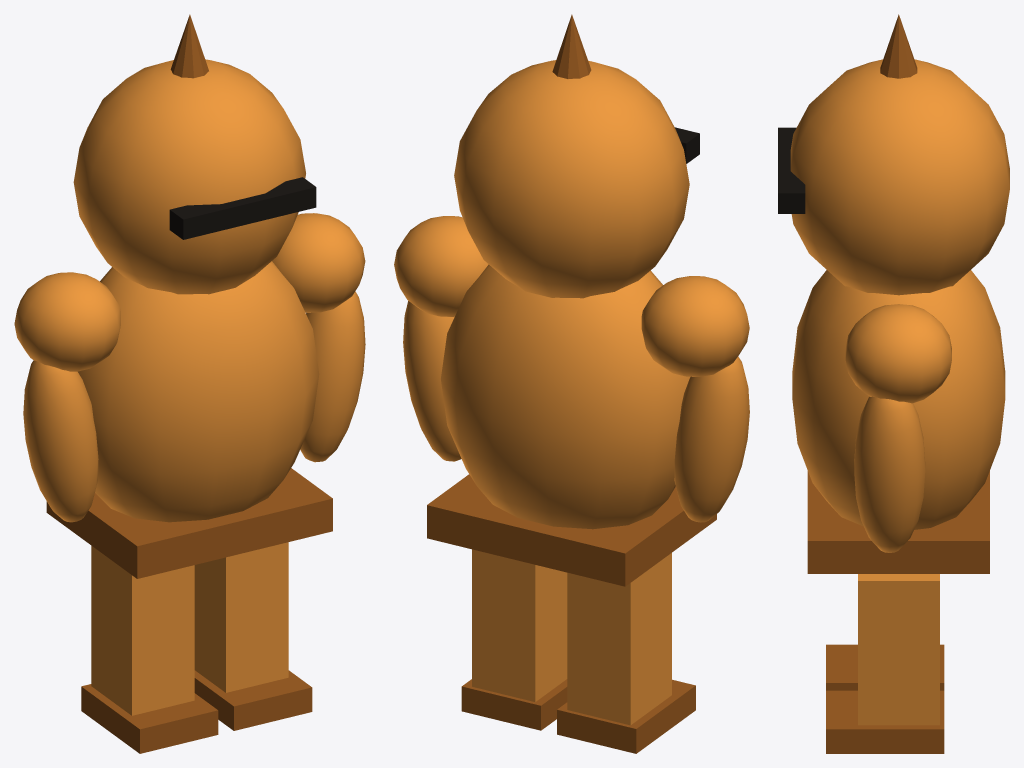
Rendered from armour-orange.glb.
The picture shows the model from 3 angles, left to right: view 1: azimuth 30°, elevation 25°; view 2: azimuth 150°, elevation 25°; view 3: azimuth 270°, elevation 25°; orthographic projection.
Parts seen in each view (by area): view 1: armour-orange; view 2: armour-orange; view 3: armour-orange.
Boxes of the visible parts, x1,y1,x2,y2 form: armour-orange: [14, 14, 365, 753]; armour-orange: [394, 14, 749, 753]; armour-orange: [778, 14, 1009, 753].
Bounding box in the file's own units: 0.86 × 1.69 × 0.5087.
